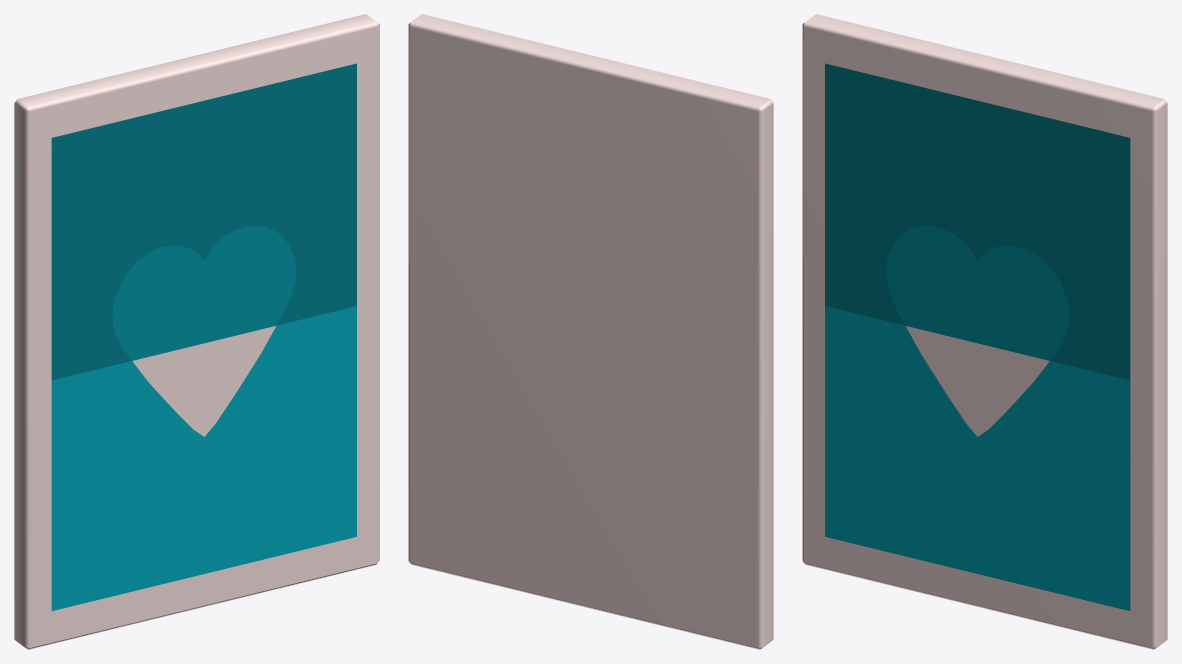
File: Public_4_Cinema_Poster_6.glb
3 views of the same model, side by side, from view 1: azimuth 30°, elevation 25°; view 2: azimuth 150°, elevation 25°; view 3: azimuth 330°, elevation 25° (orthographic).
Parts seen in each view (by area): view 1: Public_4_Cinema_Poster_6; view 2: Public_4_Cinema_Poster_6; view 3: Public_4_Cinema_Poster_6.
Boxes of the visible parts, <box> form: Public_4_Cinema_Poster_6: <box>14,14,379,649</box>; Public_4_Cinema_Poster_6: <box>408,14,773,649</box>; Public_4_Cinema_Poster_6: <box>802,14,1167,649</box>.
Bounding box in the file's own units: 1.13 × 1.65 × 0.0804.
Materials: 1 (1 with a texture image).
